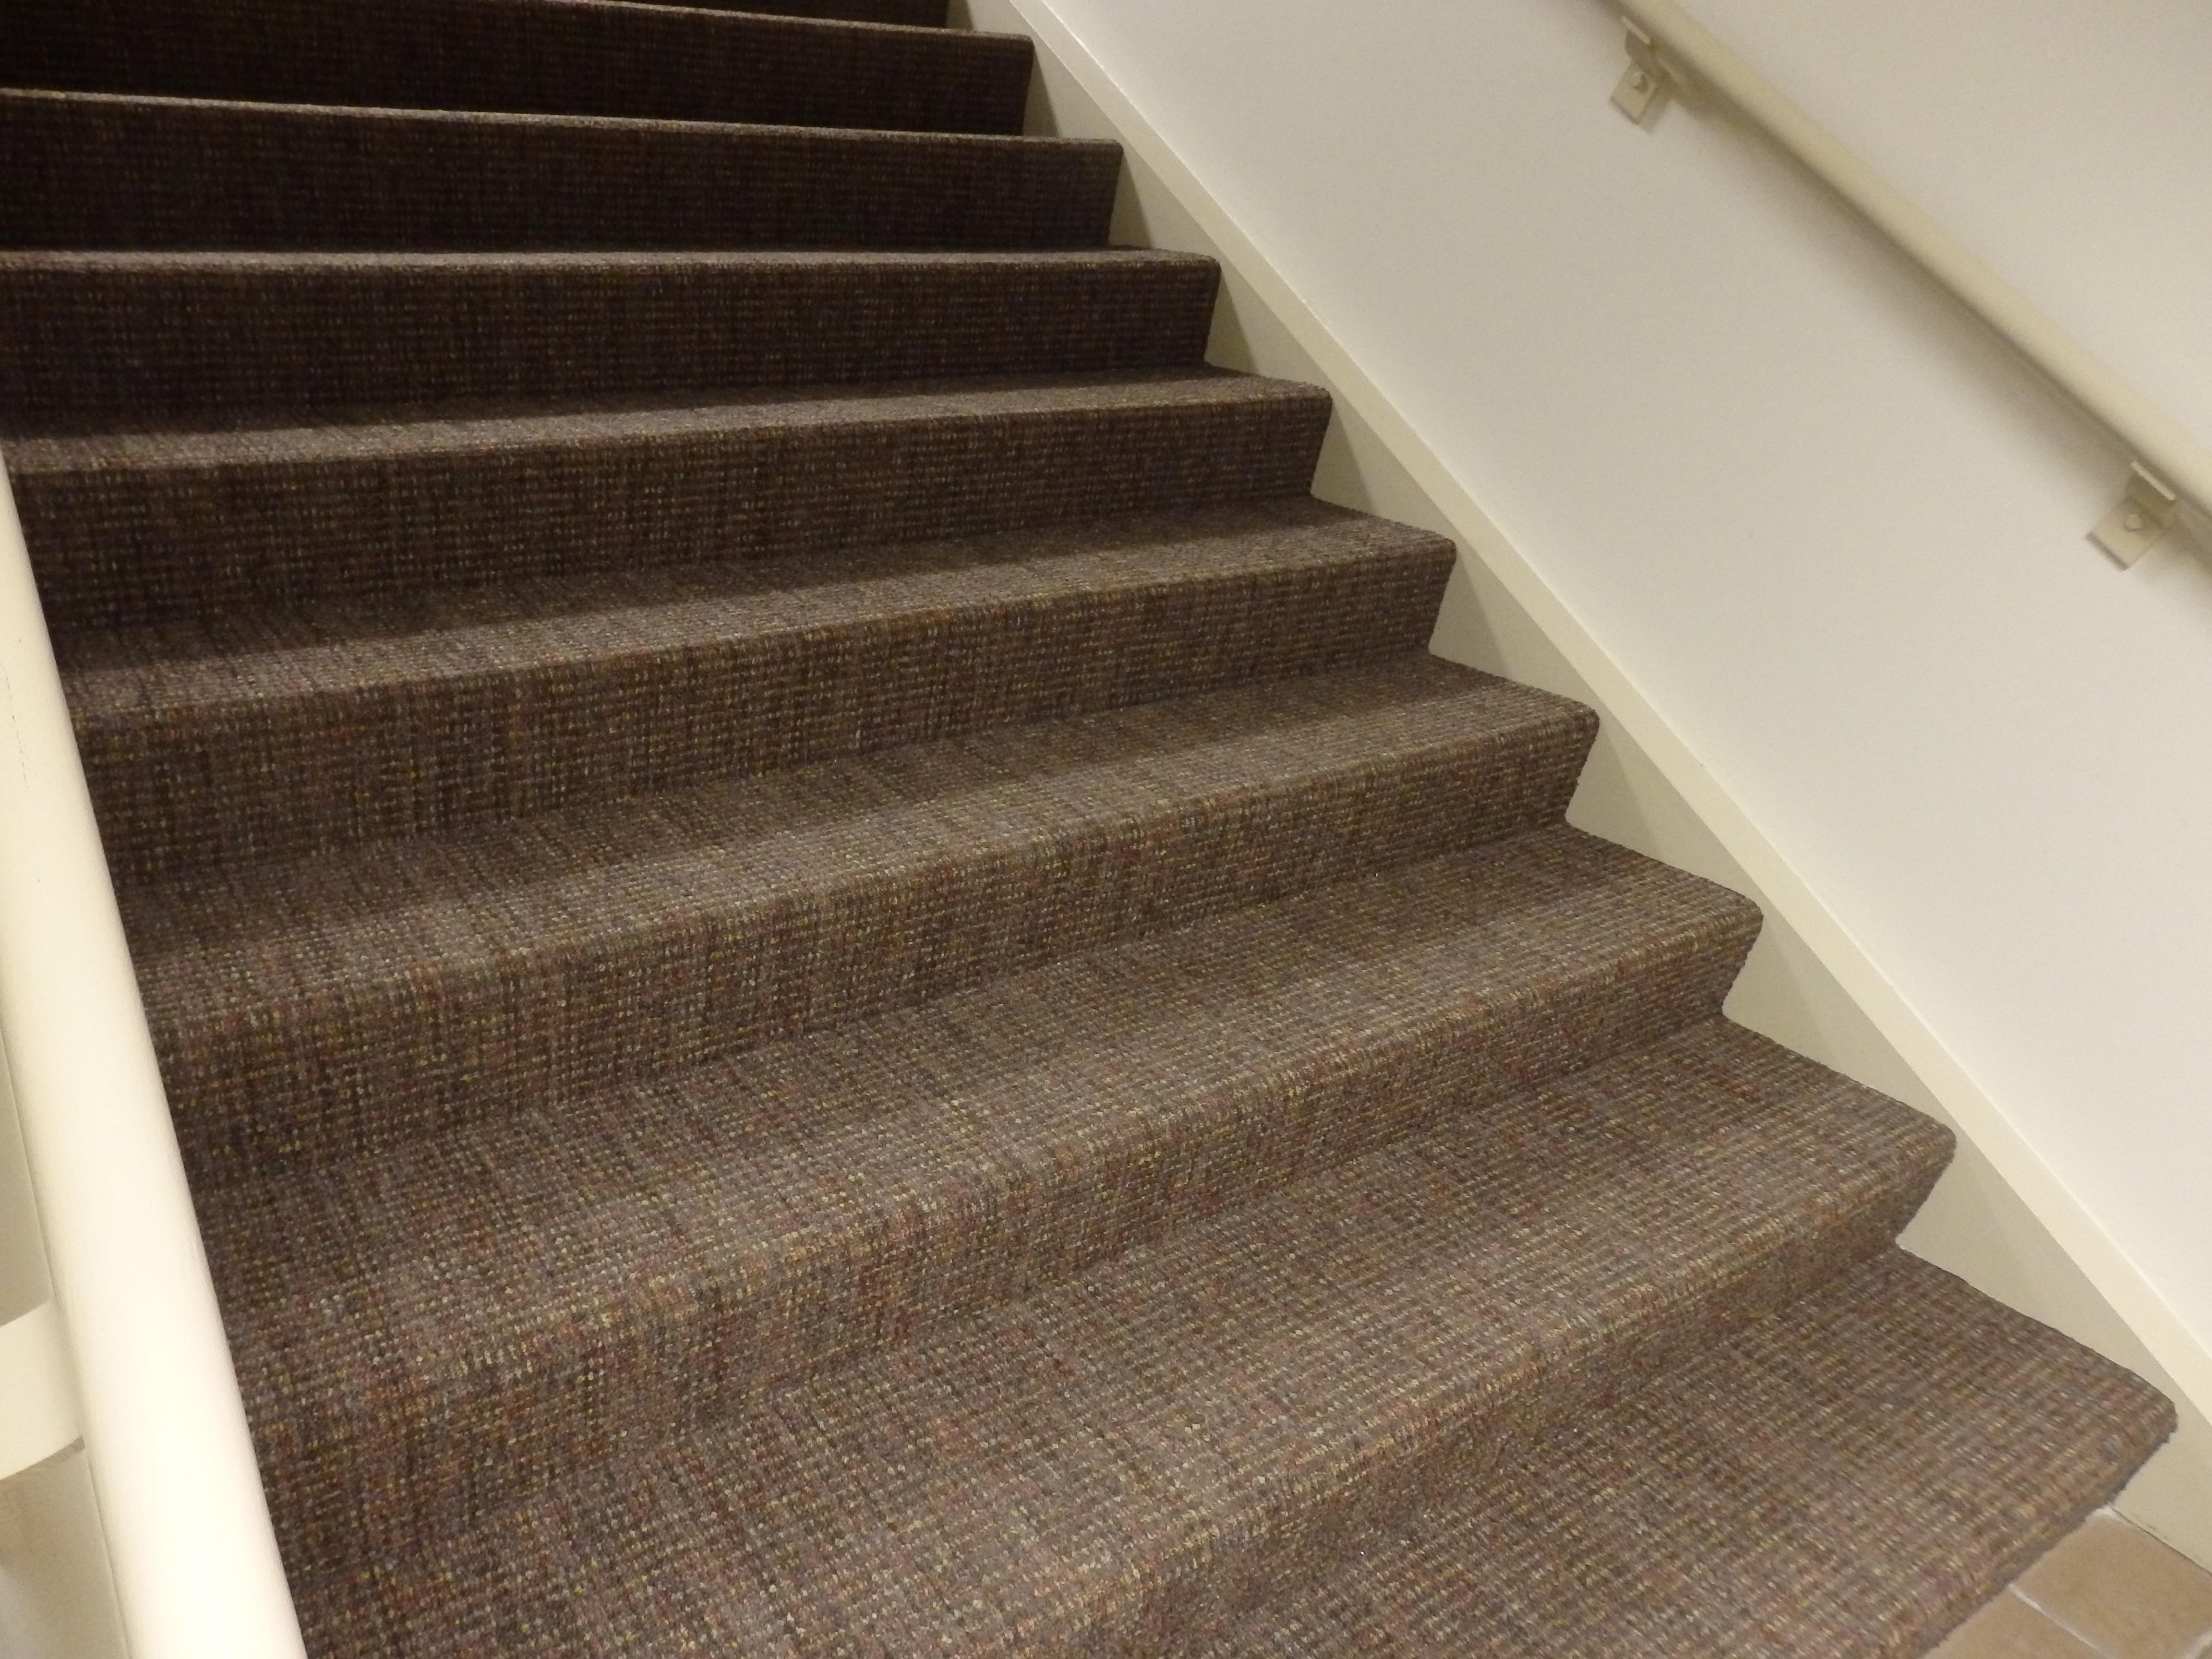stairs_up: (9, 5, 2085, 1596)
